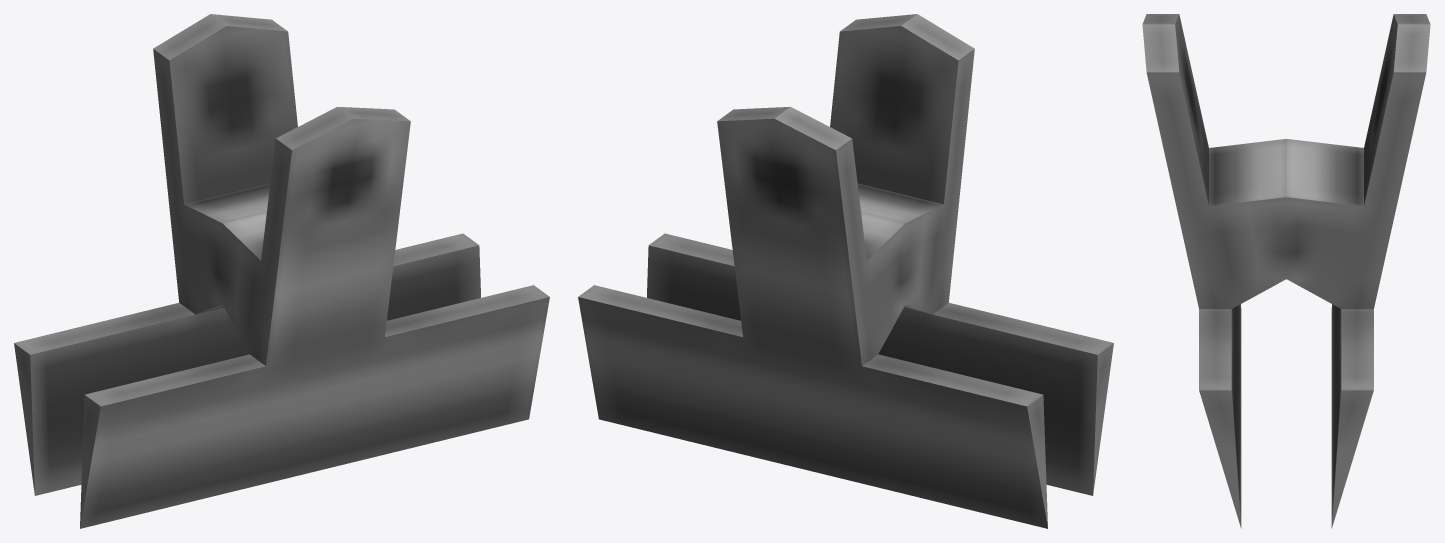
The model's file is jsf_Clip.fbx.
The picture shows the model from 3 angles, left to right: view 1: azimuth 30°, elevation 25°; view 2: azimuth 150°, elevation 25°; view 3: azimuth 270°, elevation 25°; orthographic projection.
Parts seen in each view (by area): view 1: jsf_Clip; view 2: jsf_Clip; view 3: jsf_Clip.
Boxes of the visible parts, x1,y1,x2,y2 form: jsf_Clip: [14, 14, 549, 528]; jsf_Clip: [578, 14, 1113, 528]; jsf_Clip: [1142, 14, 1430, 528].
Bounding box in the file's own units: 5.36 × 4.46 × 2.96.
